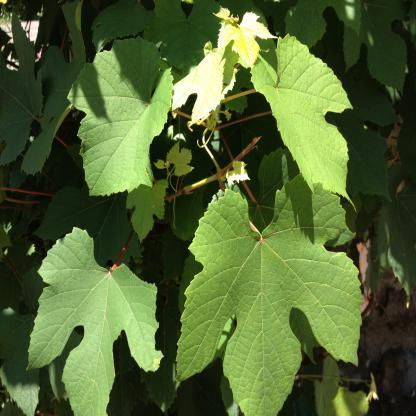grape leaf black rot: (175, 180, 365, 416), (20, 228, 162, 416), (60, 34, 178, 204), (251, 34, 359, 209), (216, 12, 280, 69)
